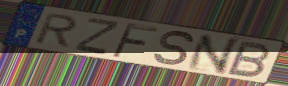B: (224, 40, 273, 79)
F: (109, 21, 161, 60)
N: (183, 34, 244, 76)
R: (31, 12, 81, 49)
S: (152, 30, 196, 68)
Z: (72, 16, 122, 57)
